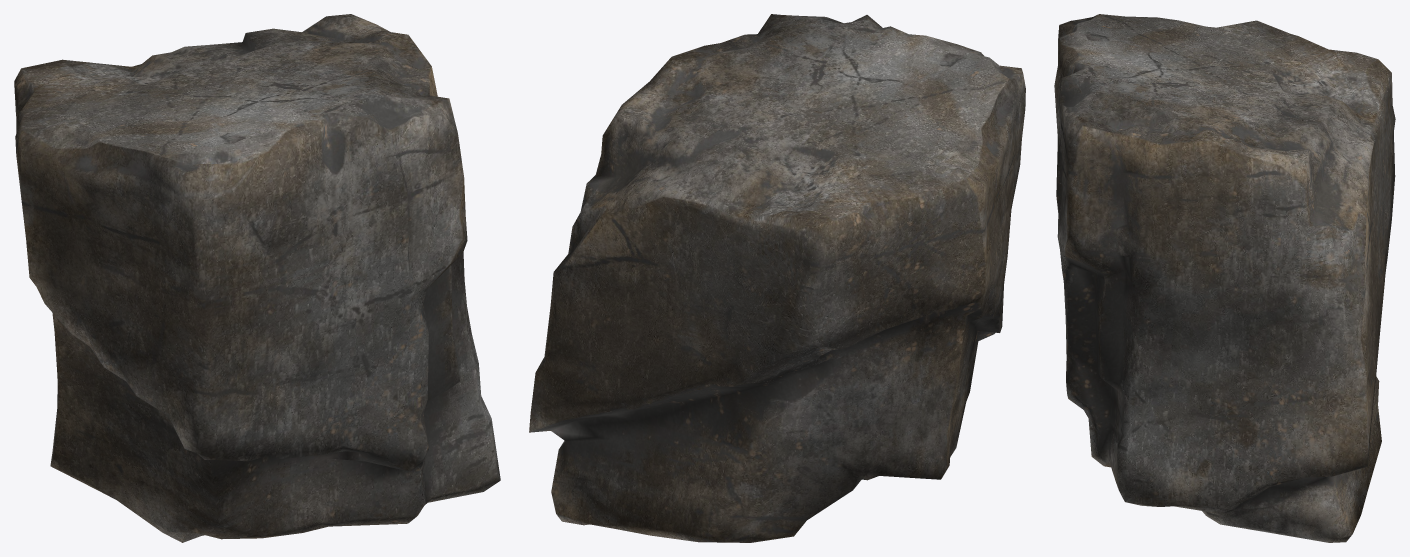
File: Free_rock.fbx
3 renders of one model, left to right at view 1: azimuth 30°, elevation 25°; view 2: azimuth 150°, elevation 25°; view 3: azimuth 270°, elevation 25°, orthographic. The views are drawn at different scales.
Parts seen in each view (by area): view 1: Free_rock; view 2: Free_rock; view 3: Free_rock.
Boxes of the visible parts, x1,y1,x2,y2 form: Free_rock: [14, 14, 500, 542]; Free_rock: [529, 14, 1025, 542]; Free_rock: [1054, 14, 1395, 542].
Size of the model in its own units: 15.72 by 16.82 by 13.07.
Materials: 1 (1 with a texture image).
